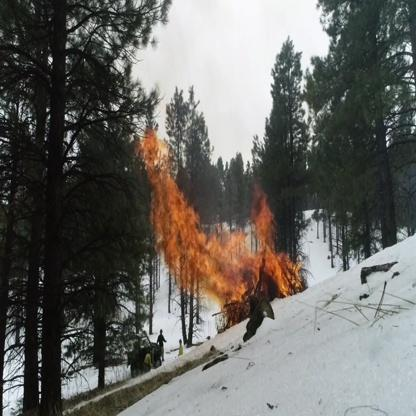Fire: (133, 125, 309, 327)
